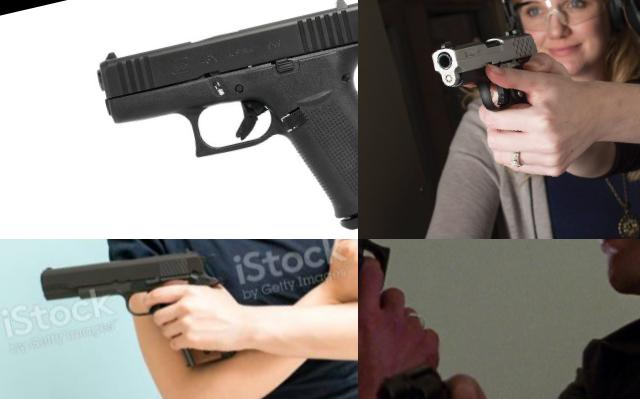handgun: (89, 0, 358, 239), (32, 239, 247, 399), (426, 18, 558, 154), (358, 239, 436, 364), (369, 358, 470, 399)
